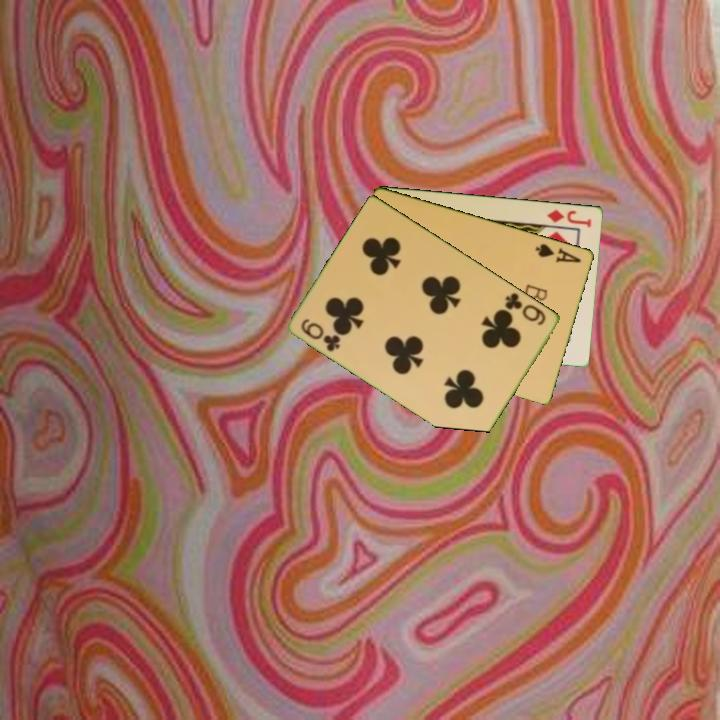6c: (502, 289, 549, 329), (298, 315, 344, 355)
As: (532, 240, 584, 266)
Jd: (543, 205, 594, 230)
